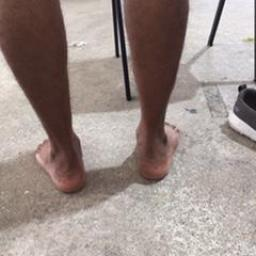Back View -Both Feet-: (22, 95, 186, 199)
